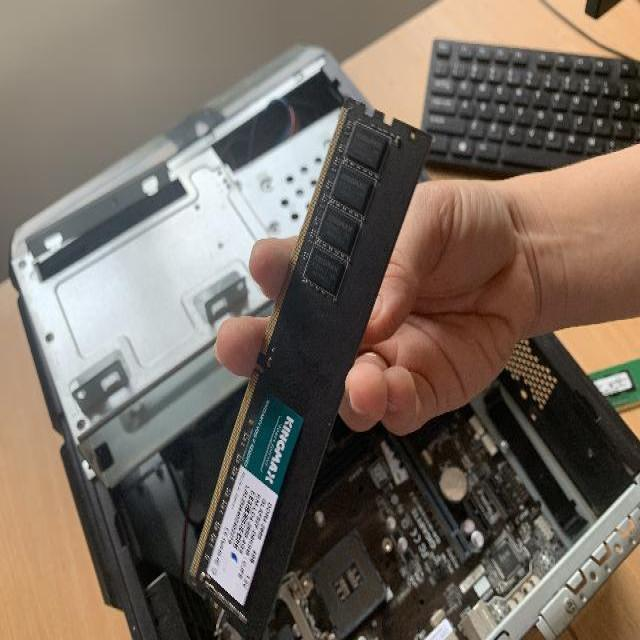RAM: (187, 91, 431, 640)
